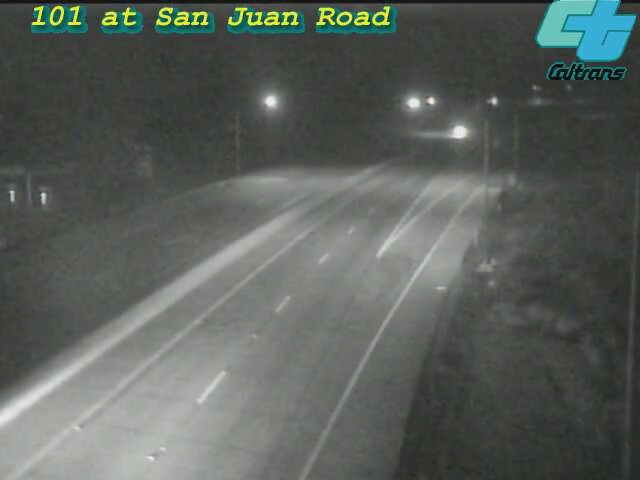vehicle: (436, 107, 486, 157)
